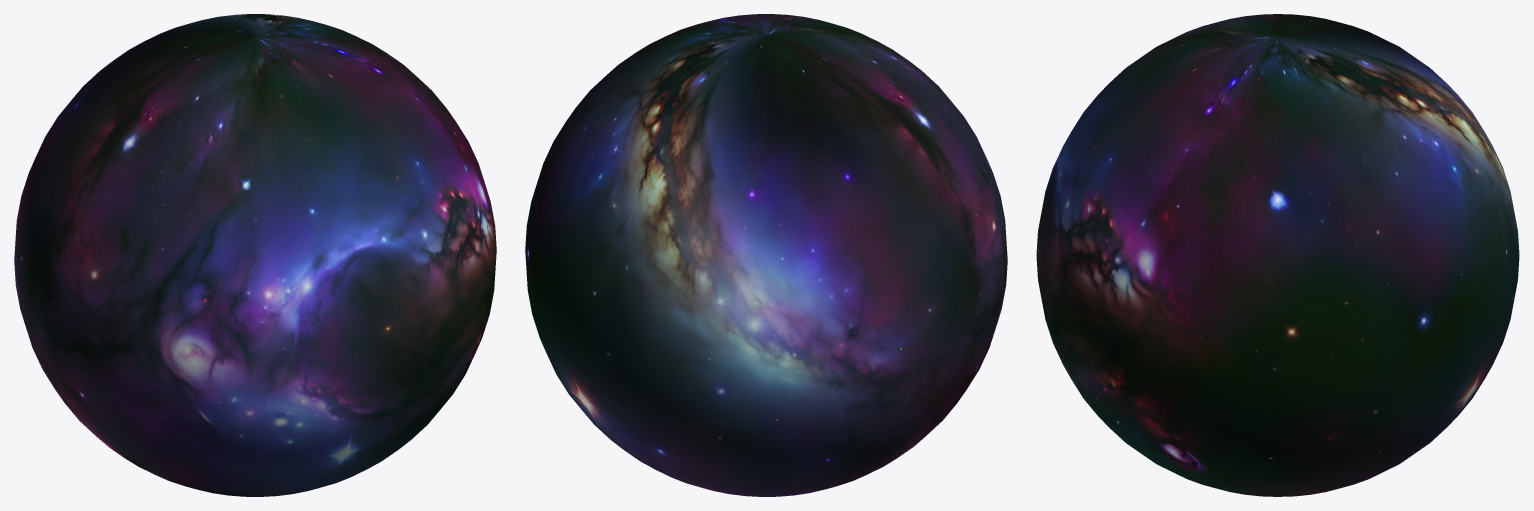
File: space_ice.dae
The picture shows the model from 3 angles, left to right: view 1: azimuth 30°, elevation 25°; view 2: azimuth 150°, elevation 25°; view 3: azimuth 270°, elevation 25°; orthographic projection.
Visible parts, largest first — view 1: Sphere_Sphere_001; view 2: Sphere_Sphere_001; view 3: Sphere_Sphere_001.
Boxes of the visible parts, left/top/right/bottom form: Sphere_Sphere_001: left=14, top=14, right=496, bottom=496; Sphere_Sphere_001: left=525, top=14, right=1007, bottom=496; Sphere_Sphere_001: left=1036, top=14, right=1519, bottom=496.
Bounding box in the file's own units: 627 × 627 × 627.
Materials: 11 (11 with a texture image).
